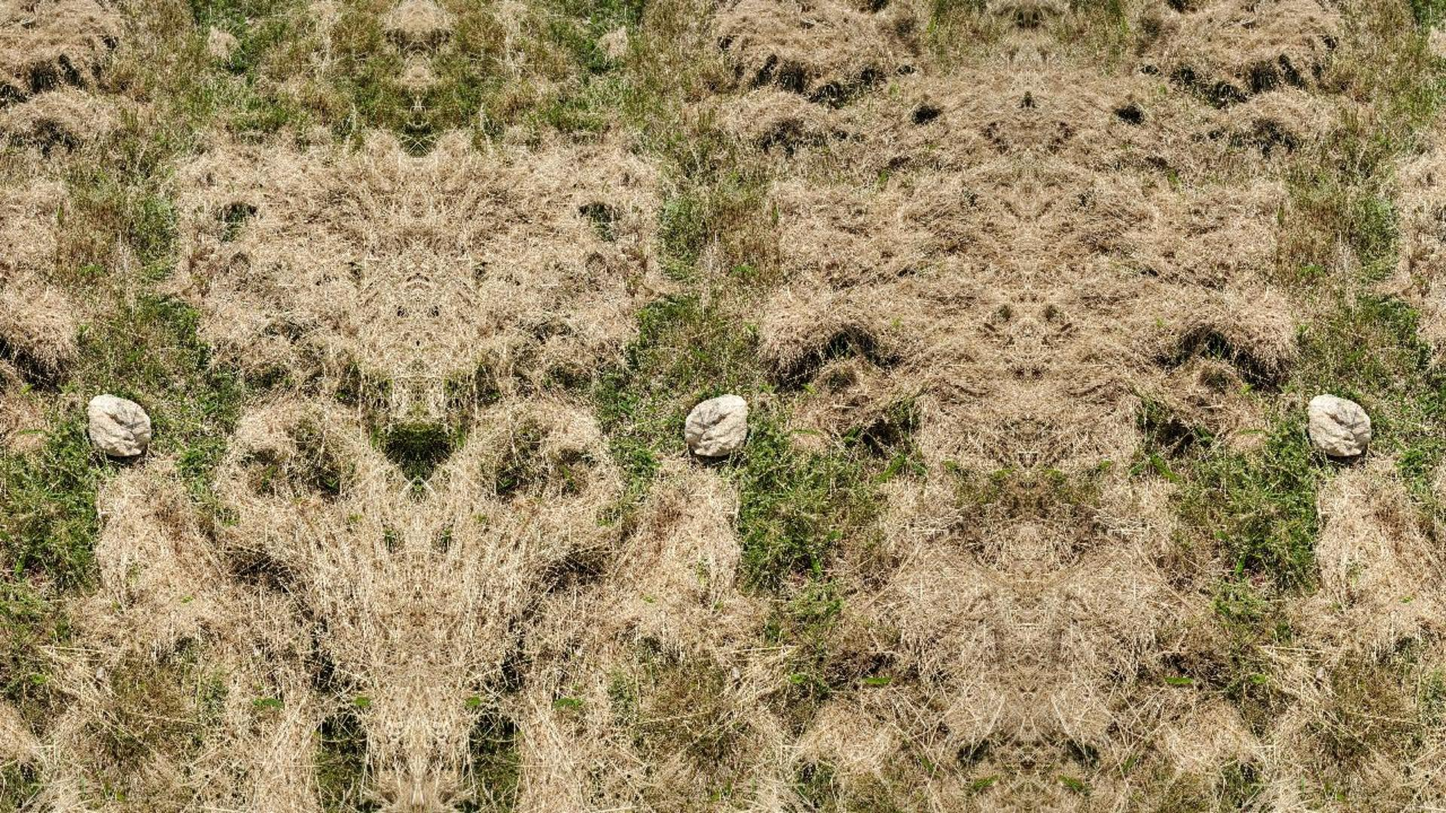rock: (685, 395, 747, 456), (88, 394, 150, 455), (1308, 395, 1370, 455)
